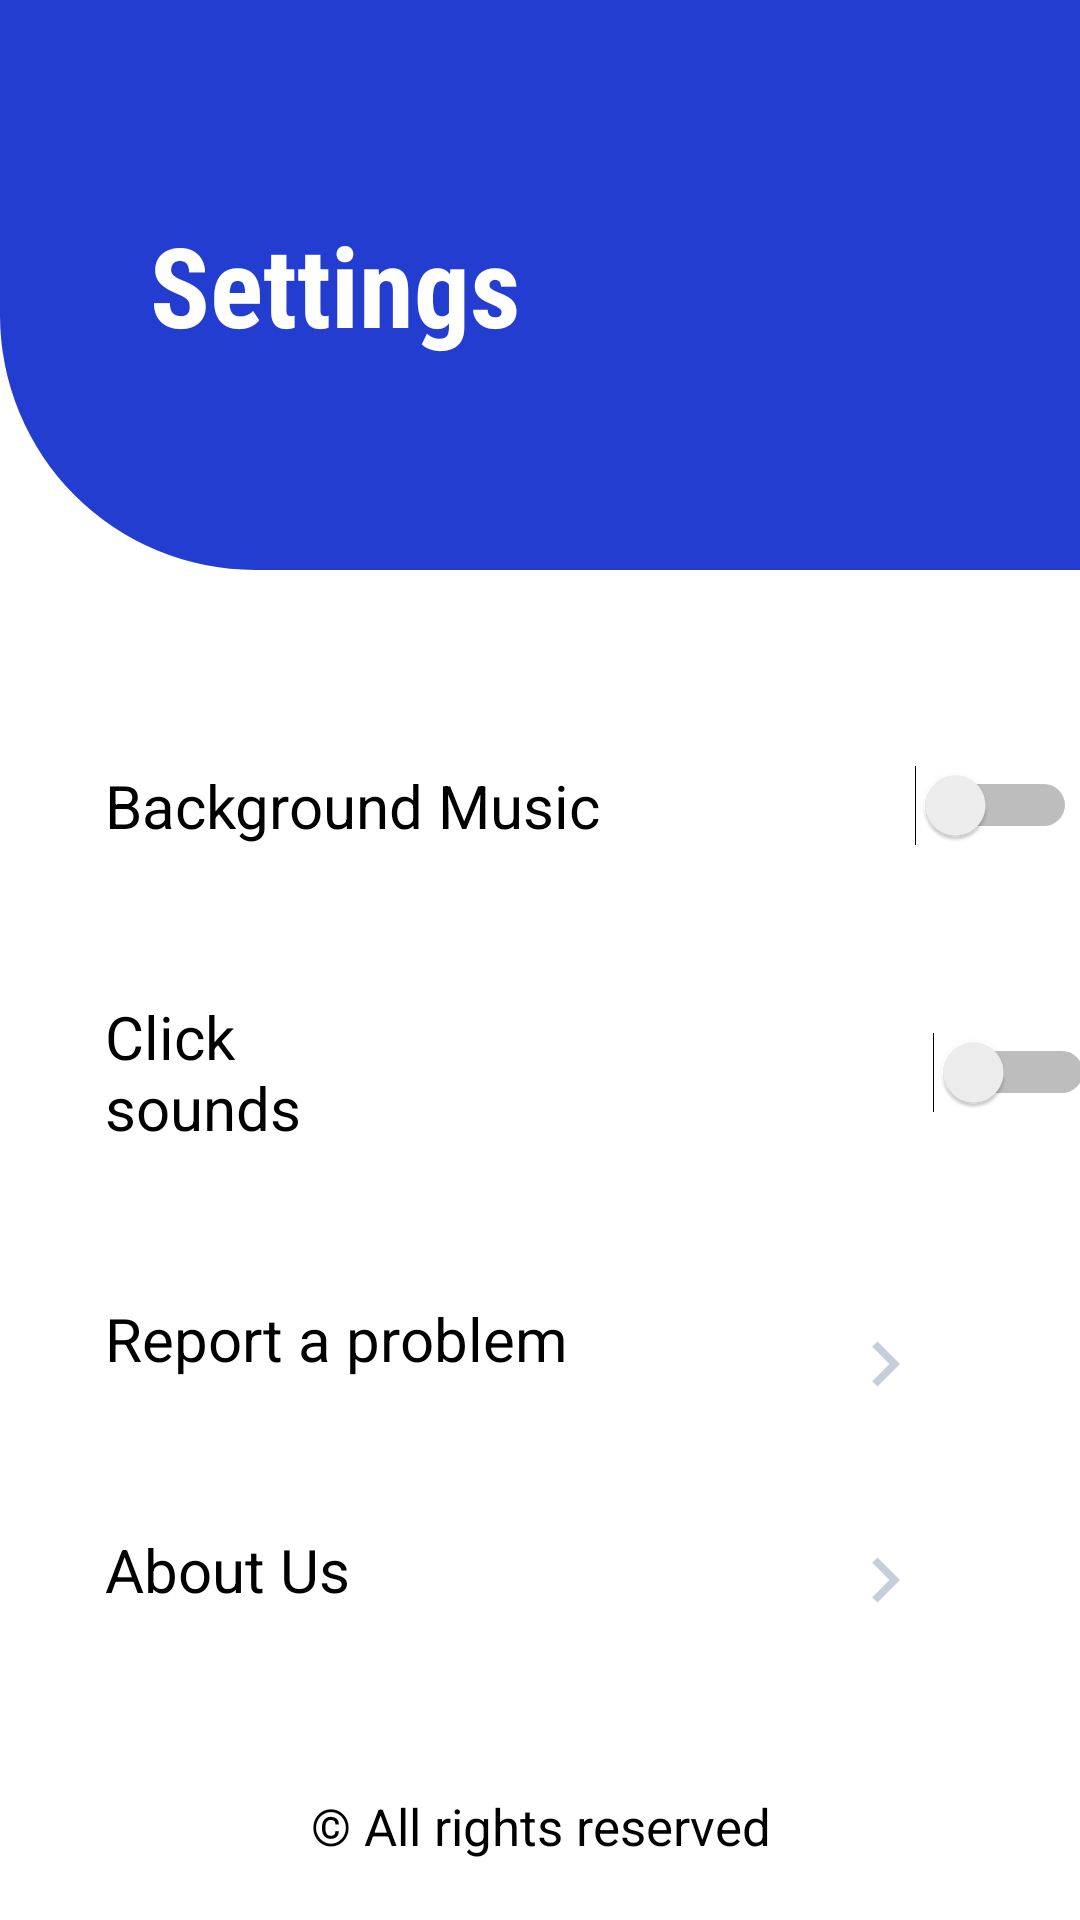

Icon bounding boxes for this 1080px×1920px phone screenshot, format (x1, y1, x2, y2):
chevron right: (872, 1342, 900, 1386), (872, 1558, 900, 1602)
